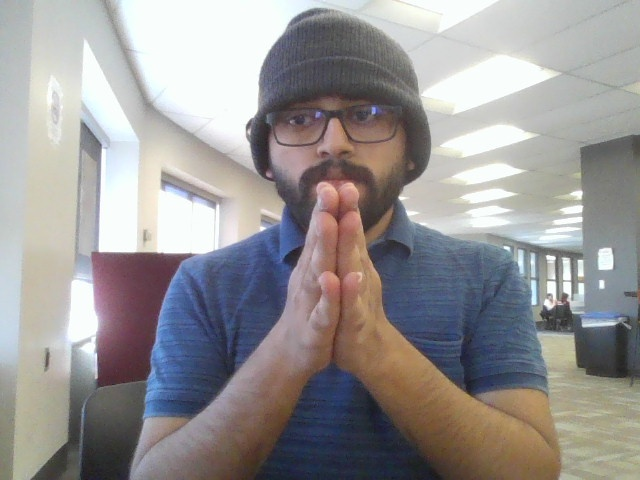start: (273, 178, 408, 393)
